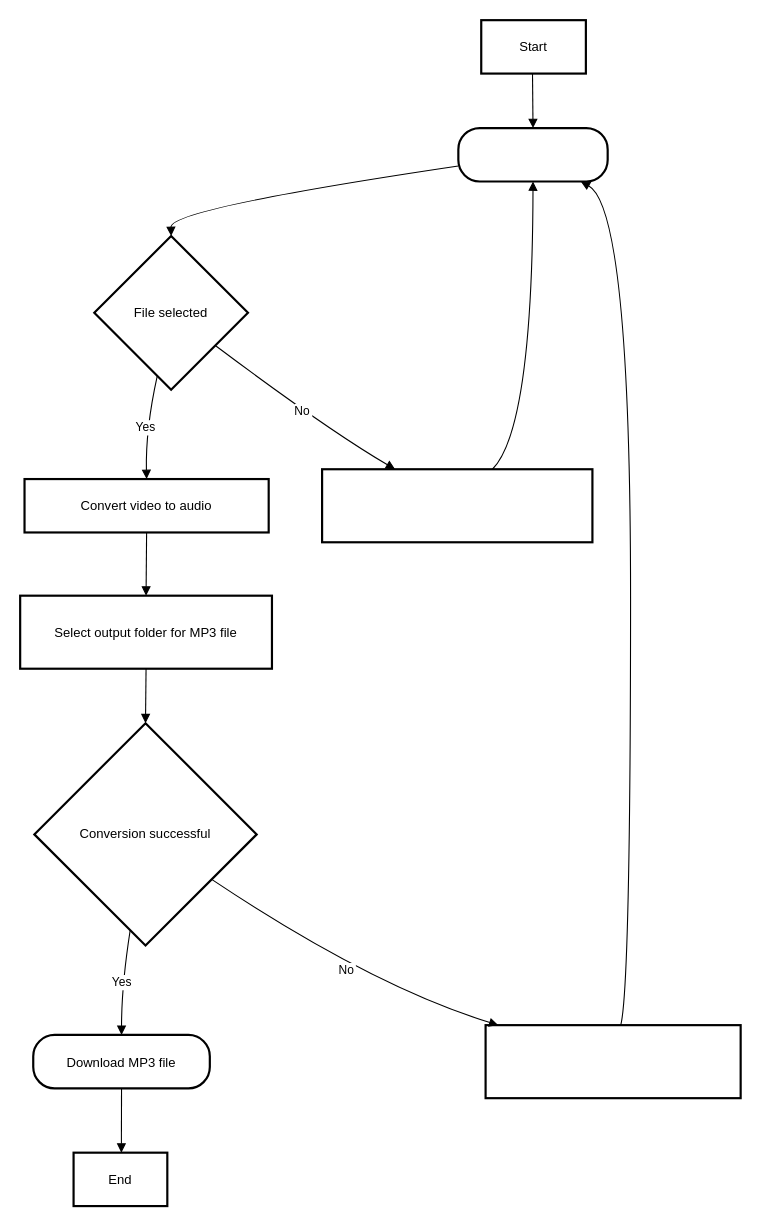
This 760x1225 diagram has some shape labels left out. Each missing label, with the centre of its shape:
Display conversion error message and return to B: pixel 612 1061
Display error message and return to B: pixel 456 505
Select MP4 file: pixel 532 154
